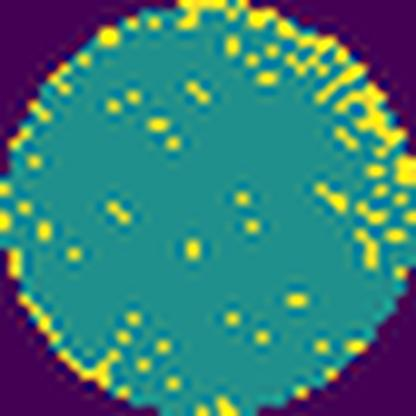Edge-Loc: (260, 12, 406, 152), (172, 0, 248, 35), (392, 154, 415, 186)
